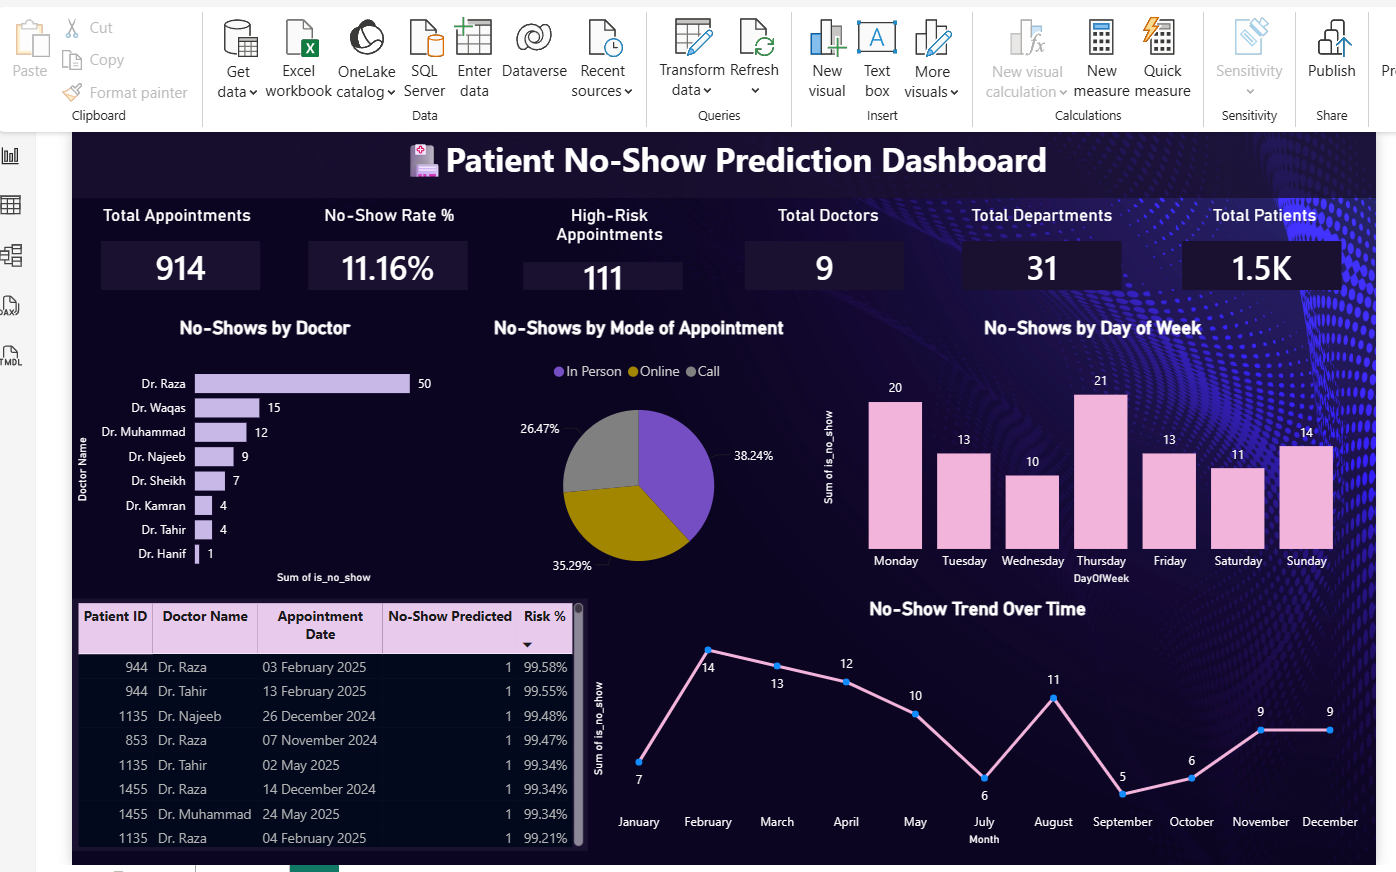

Layout of this report page (visuals, bound fields, positions):
{"tool":"powerbi","page":{"name":"Page 1","canvas":[1280,720],"ordinal":0},"visuals":[{"type":"cardVisual","title":"Total Appointments","fields":{"Data":["Count(appointment_with_predictions clean.appointment_Id)"]},"box":[8.6,71,189,104.3],"z":1000},{"type":"cardVisual","title":"No-Show Rate %","fields":{"Data":["Avg(appointment_with_predictions clean.is_no_show)"]},"box":[212.3,71,198.8,104.3],"z":2000},{"type":"cardVisual","title":"High-Risk Appointments","fields":{"Data":["Sum(appointment_with_predictions clean.predicted_no_show)"]},"box":[423.3,71,208.6,104.3],"z":3000},{"type":"cardVisual","title":"Total Doctors","fields":{"Data":["Count(appointment_with_predictions clean.doctor_Id)"]},"box":[640.5,71,203.7,104.3],"z":4000},{"type":"cardVisual","title":"Total Departments","fields":{"Data":["Count(department_clean.dept_Id)"]},"box":[854,71,196.3,104.3],"z":5000},{"type":"cardVisual","title":"Total Patients","fields":{"Data":["Count(patients_clean.patient_Id)"]},"box":[1069.9,71.2,201.2,104.3],"z":6000},{"type":"clusteredBarChart","title":"No-Shows by Doctor","fields":{"Category":["doctor_clean.FName"],"Y":["Sum(appointment_with_predictions clean.is_no_show)"]},"box":[0,181.6,379,267],"z":7000},{"type":"clusteredColumnChart","title":"No-Shows by Day of Week","fields":{"Category":["appointment_with_predictions clean.DayOfWeek"],"Y":["Sum(appointment_with_predictions clean.is_no_show)"]},"box":[732.5,181.6,538.7,267.5],"z":8000},{"type":"tableEx","fields":{"Values":["appointment_with_predictions clean.patient_Id","doctor_clean.FName","appointment_with_predictions clean.appointment_Date","appointment_with_predictions clean.predicted_no_show","appointment_with_predictions clean.no_show_probability"]},"box":[0,457.7,506.8,247.9],"z":9000},{"type":"lineChart","title":"No-Show Trend Over Time","fields":{"Y":["Sum(appointment_with_predictions clean.is_no_show)"],"Category":["appointment_with_predictions clean.appointment_Date.Variation.Date Hierarchy.Month"]},"box":[506.8,457.7,764.4,247.9],"z":10000},{"type":"pieChart","title":"No-Shows by Mode of Appointment","fields":{"Category":["appointment_with_predictions clean.mode_of_appointment"],"Y":["Sum(appointment_with_predictions clean.is_no_show)"]},"box":[379.1,181.6,354.6,267.5],"z":11000},{"type":"textbox","box":[0,0,1279.8,65],"z":12000}]}

Visuals, with their boxes on the page's 1280x720 design canvas (x1, y1, x2, y2). These are canvas units, not pixel positions in the 1396x872 screenshot, which may show the page scaled, cropped or inside an application window:
"Total Appointments" cardVisual: l=9, t=71, r=198, b=175
"No-Show Rate %" cardVisual: l=212, t=71, r=411, b=175
"High-Risk Appointments" cardVisual: l=423, t=71, r=632, b=175
"Total Doctors" cardVisual: l=640, t=71, r=844, b=175
"Total Departments" cardVisual: l=854, t=71, r=1050, b=175
"Total Patients" cardVisual: l=1070, t=71, r=1271, b=176
"No-Shows by Doctor" clusteredBarChart: l=0, t=182, r=379, b=449
"No-Shows by Day of Week" clusteredColumnChart: l=732, t=182, r=1271, b=449
tableEx - appointment_with_predictions clean.patient_Id x doctor_clean.FName: l=0, t=458, r=507, b=706
"No-Show Trend Over Time" lineChart: l=507, t=458, r=1271, b=706
"No-Shows by Mode of Appointment" pieChart: l=379, t=182, r=734, b=449
textbox: l=0, t=0, r=1280, b=65
